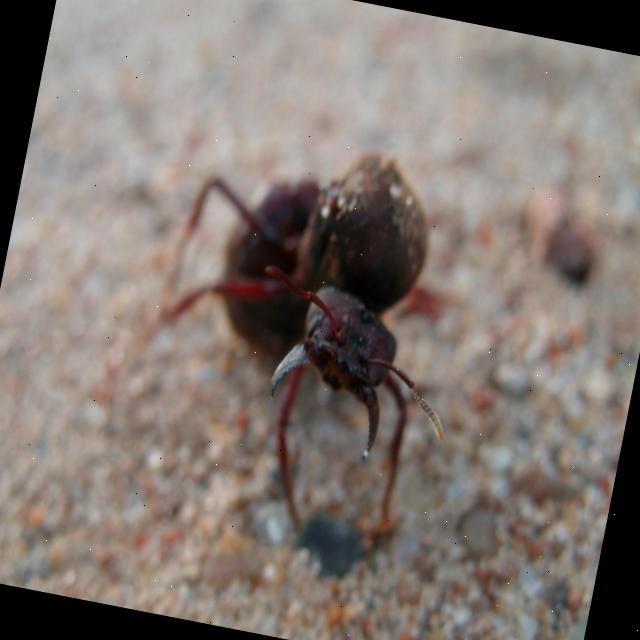Alive-Female-Dealate: (110, 115, 495, 558)
